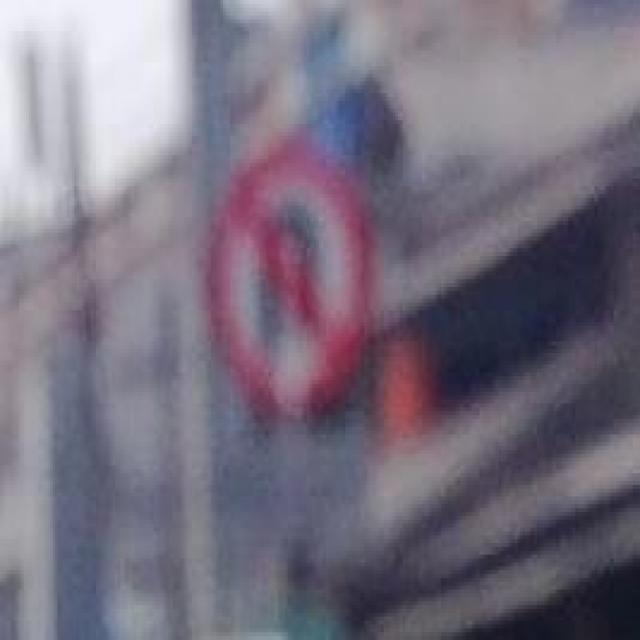traffic sign: (213, 147, 378, 414)
